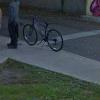Bicycle: (20, 11, 65, 61)
